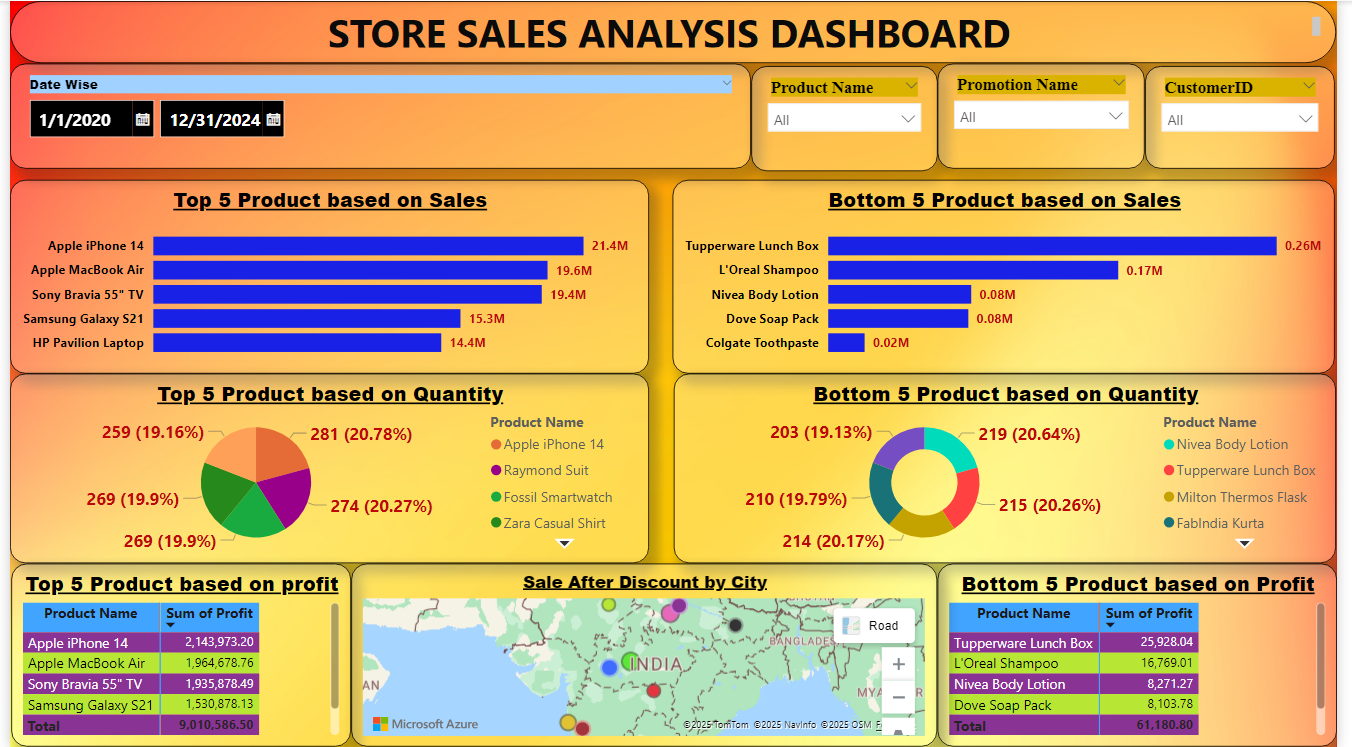

Layout of this report page (visuals, bound fields, positions):
{"tool":"powerbi","page":{"name":"Page 1","canvas":[1280,720],"ordinal":0},"visuals":[{"type":"barChart","title":"Top 5 Product based on Sales","fields":{"Category":["Sales.Product Name"],"Y":["Sum(Sales.Sale After Discount)"]},"box":[0,172.5,616.5,187],"z":0},{"type":"barChart","title":"Bottom 5 Product based on Sales","fields":{"Category":["Sales.Product Name"],"Y":["Sum(Sales.Sale After Discount)"]},"box":[639.4,172.5,639.4,187],"z":1000},{"type":"pieChart","title":"Top 5 Product based on Quantity","fields":{"Category":["Sales.Product Name"],"Y":["Sum(Sales.Units Sold)"]},"box":[0,359.5,616.5,183.4],"z":2000},{"type":"donutChart","title":"Bottom 5 Product based on Quantity","fields":{"Category":["Sales.Product Name"],"Y":["Sum(Sales.Units Sold)"]},"box":[640.6,359.5,639.4,183.4],"z":3000},{"type":"textbox","box":[0,0,1280,60.3],"z":4000},{"type":"pivotTable","title":"Top 5 Product based on profit","fields":{"Rows":["Sales.Product Name"],"Values":["Sum(Sales.Profit)"]},"box":[1.4,543.4,328,177],"z":5000},{"type":"pivotTable","title":"Bottom 5 Product based on Profit","fields":{"Rows":["Sales.Product Name"],"Values":["Sum(Sales.Profit)"]},"box":[894.7,543.4,385.6,177],"z":6000},{"type":"slicer","fields":{"Values":["Date Table.Date"]},"box":[0,60.3,715.4,101.3],"z":7000},{"type":"slicer","fields":{"Values":["Sales.Product Name"]},"box":[715.4,62.7,179.8,101.3],"z":8000},{"type":"slicer","fields":{"Values":["Promotion.Promotion Name"]},"box":[895.2,60.3,200.3,101.3],"z":9000},{"type":"slicer","fields":{"Values":["Sales.CustomerID"]},"box":[1095.4,62.7,183.4,98.9],"z":10000},{"type":"azureMap","fields":{"Category":["Customers.City"],"Size":["Sum(Sales.Sale After Discount)"]},"box":[329.3,543.4,565.4,177],"z":10001}]}

Visuals, with their boxes in screenshot pixels (x1, y1, x2, y2), scaled from the page's 1280x720 canvas onto the 1352x747 screenshot:
"Top 5 Product based on Sales" barChart: (left=0, top=179, right=651, bottom=373)
"Bottom 5 Product based on Sales" barChart: (left=675, top=179, right=1351, bottom=373)
"Top 5 Product based on Quantity" pieChart: (left=0, top=373, right=651, bottom=563)
"Bottom 5 Product based on Quantity" donutChart: (left=677, top=373, right=1351, bottom=563)
textbox: (left=0, top=0, right=1351, bottom=63)
"Top 5 Product based on profit" pivotTable: (left=1, top=564, right=348, bottom=746)
"Bottom 5 Product based on Profit" pivotTable: (left=945, top=564, right=1351, bottom=746)
slicer - Date Table.Date: (left=0, top=63, right=756, bottom=168)
slicer - Sales.Product Name: (left=756, top=65, right=946, bottom=170)
slicer - Promotion.Promotion Name: (left=946, top=63, right=1157, bottom=168)
slicer - Sales.CustomerID: (left=1157, top=65, right=1351, bottom=168)
azureMap - Customers.City x Sum(Sales.Sale After Discount): (left=348, top=564, right=945, bottom=746)
